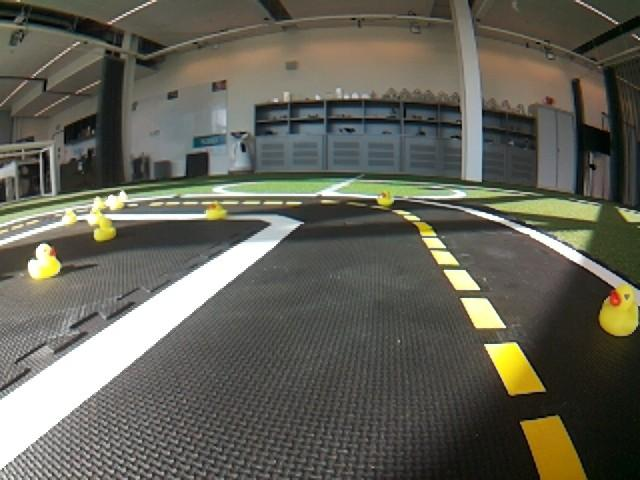Duckies: (600, 282, 640, 337), (27, 242, 61, 279), (94, 221, 117, 241), (205, 204, 227, 219), (87, 209, 106, 225), (377, 191, 394, 206), (62, 209, 77, 224), (111, 197, 126, 208), (93, 197, 108, 207)
